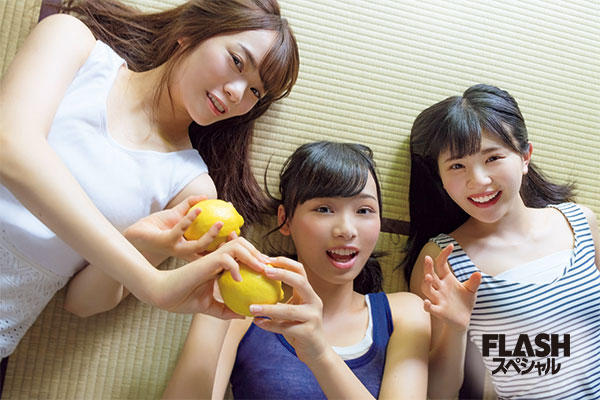face: (278, 167, 382, 284), (176, 29, 284, 126), (438, 134, 532, 224)
hand: (250, 257, 329, 365), (162, 242, 272, 319), (129, 194, 236, 257), (423, 243, 482, 334)
